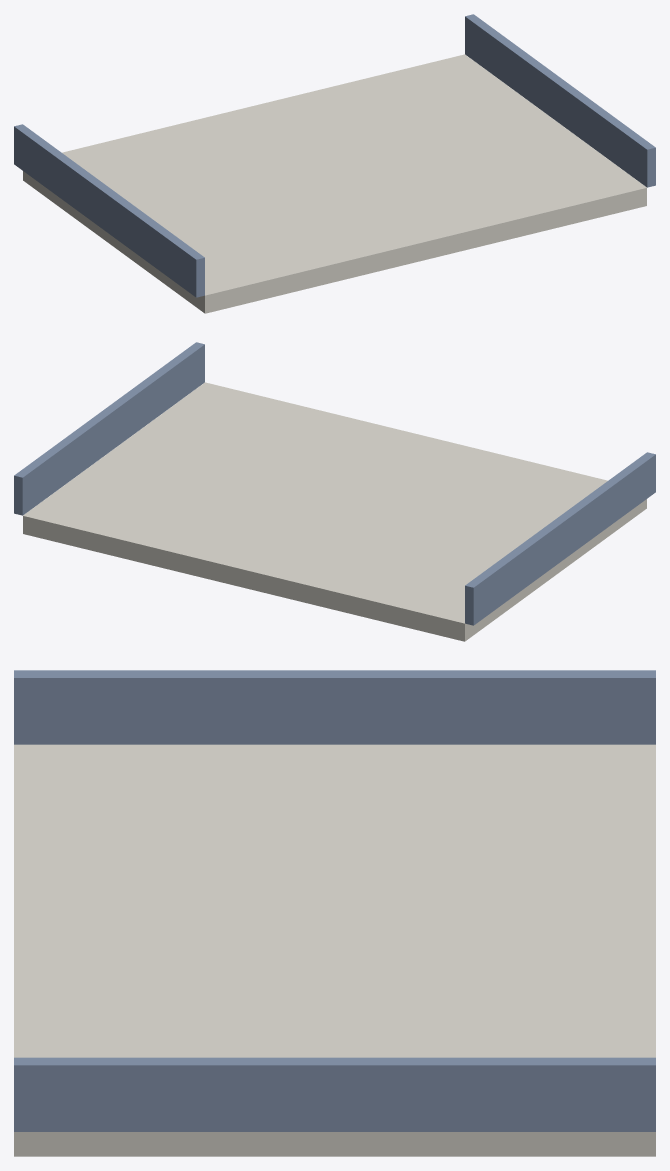
The model's file is SM_Bridge_Mid_10m.fbx.
3 renders of one model, top to bottom at view 1: azimuth 30°, elevation 25°; view 2: azimuth 150°, elevation 25°; view 3: azimuth 270°, elevation 25°, orthographic. The views are drawn at different scales.
Parts seen in each view (by area): view 1: SM_Bridge_Mid_10m; view 2: SM_Bridge_Mid_10m; view 3: SM_Bridge_Mid_10m.
Part boxes in pixels (x1,y1,x2,y2): SM_Bridge_Mid_10m: [14, 14, 655, 313]; SM_Bridge_Mid_10m: [14, 342, 655, 641]; SM_Bridge_Mid_10m: [14, 670, 655, 1156].
Size of the model in its own units: 14.56 by 1.7 by 10.
